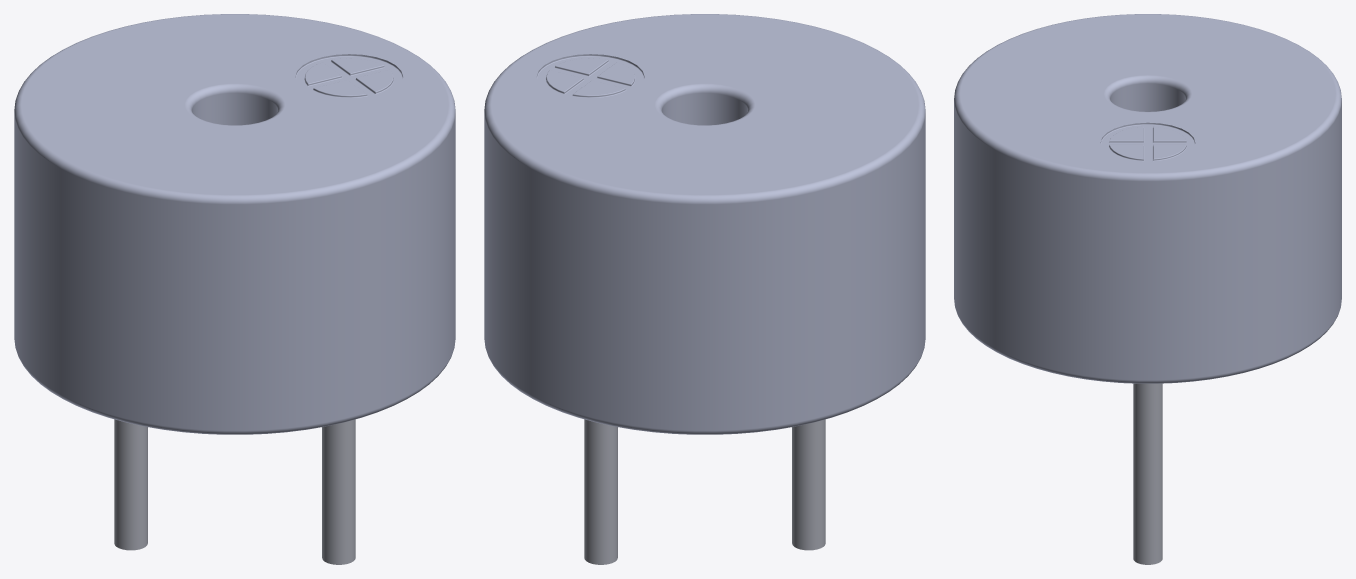
The model's file is buzzer.glb.
3 renders of one model, left to right at view 1: azimuth 30°, elevation 25°; view 2: azimuth 150°, elevation 25°; view 3: azimuth 270°, elevation 25°, orthographic. The views are drawn at different scales.
Parts seen in each view (by area): view 1: currentmodel.wrl.cleaner.materialmerger.gles; view 2: currentmodel.wrl.cleaner.materialmerger.gles; view 3: currentmodel.wrl.cleaner.materialmerger.gles.
Part boxes in pixels (<box>): currentmodel.wrl.cleaner.materialmerger.gles: <box>14,14,455,564</box>; currentmodel.wrl.cleaner.materialmerger.gles: <box>484,14,925,564</box>; currentmodel.wrl.cleaner.materialmerger.gles: <box>954,14,1341,564</box>.
Bounding box in the file's own units: 4.59 × 5.5 × 4.6.
